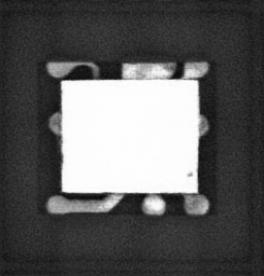DIE_INK: (185, 171, 193, 177)
